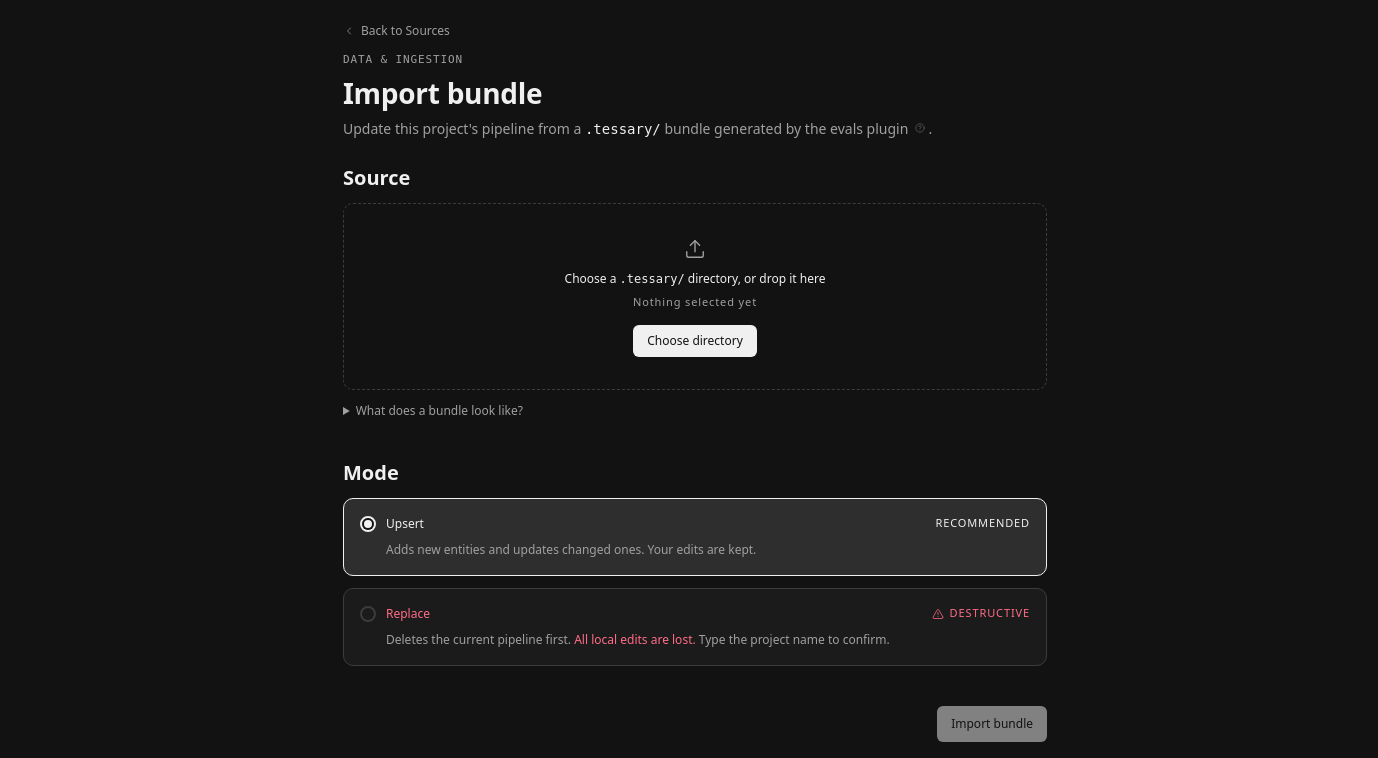
Test: importing › goes back to the project's sources
This screenshot has width=1378, height=758.
Step 1. Click the button "Back to Sources" → coordinates (396, 31), box 343,22 -> 450,40
(page scrolled)
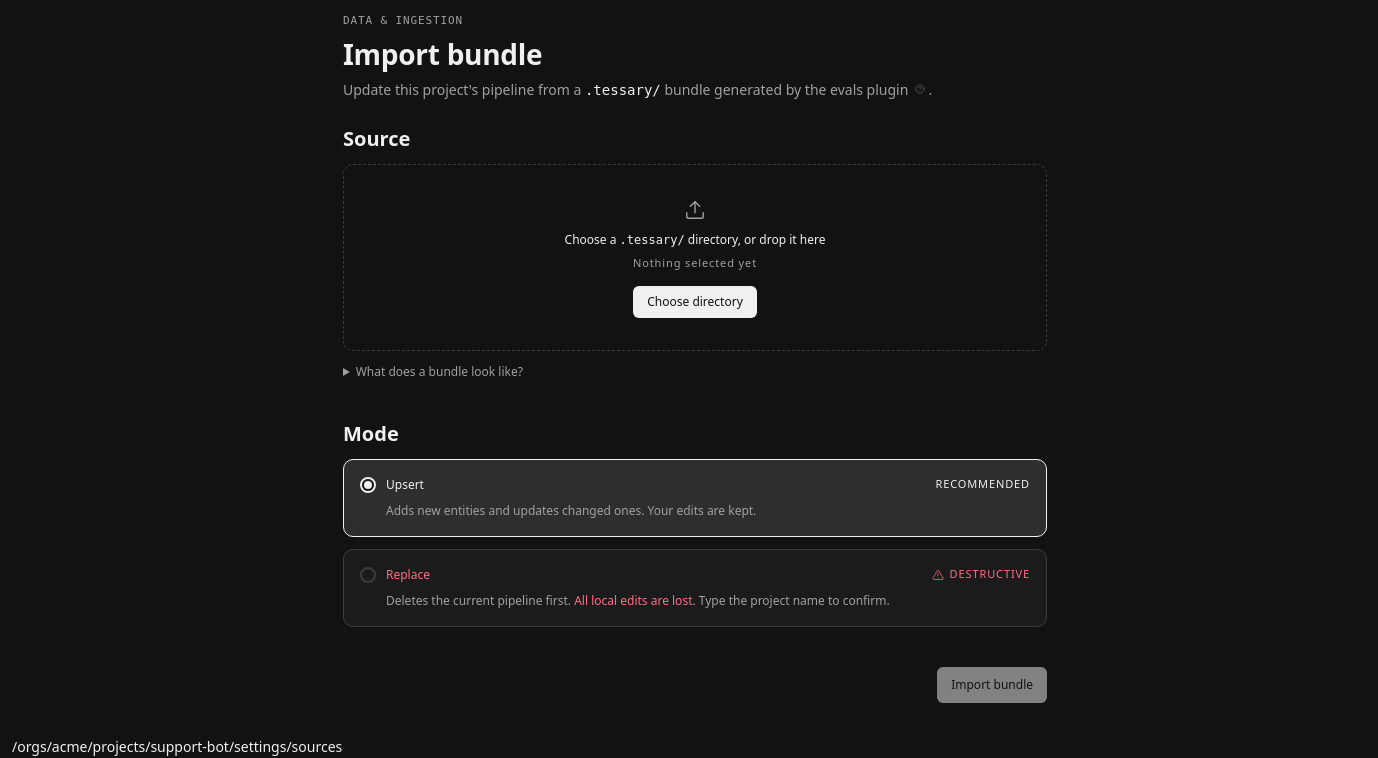
expect the text named "location" reads "/orgs/acme/projects/support-bot/settings/sources": met, box 12,737 -> 342,756
